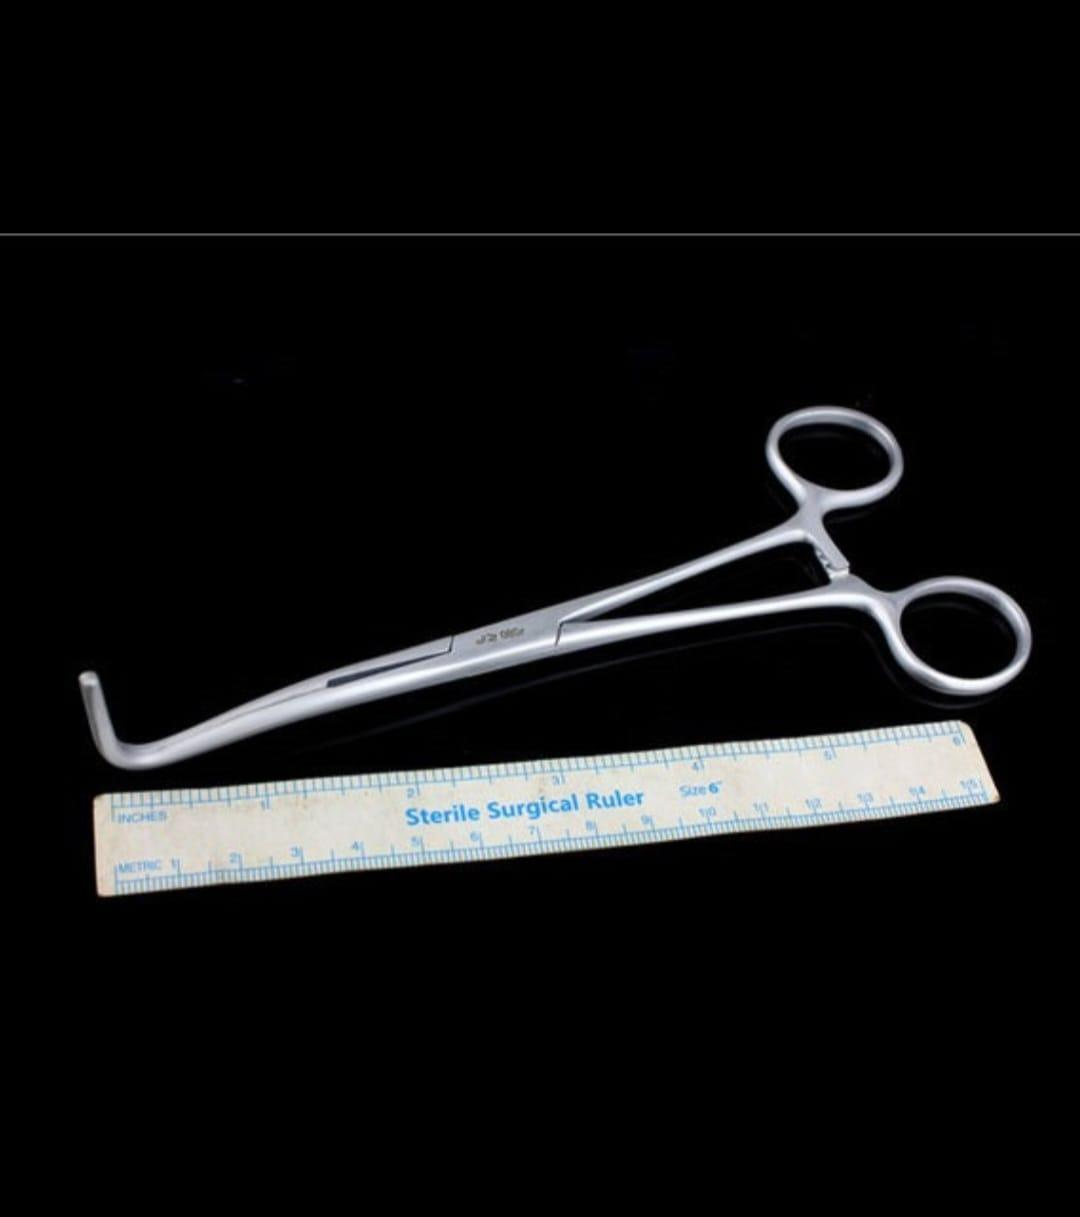Rectangle Cholecystectomy Forceps: (72, 398, 1040, 782)
